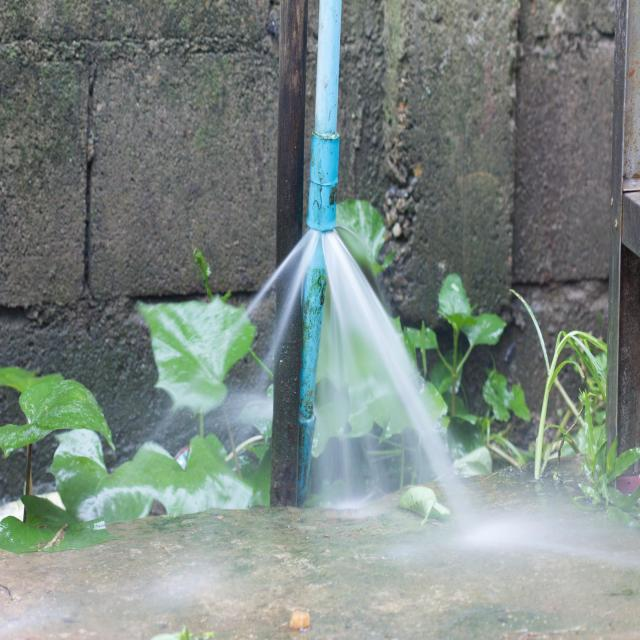leak: (79, 227, 487, 551)
